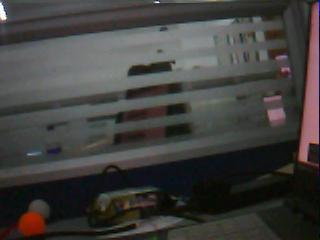oball: (18, 213, 43, 235)
